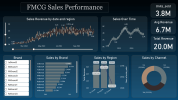

The dashboard page shown, as its layout file describes it:
{"tool":"powerbi","page":{"name":"Page 1","canvas":[1280,720],"ordinal":0},"visuals":[{"type":"lineChart","title":"Sales Over Time","fields":{"Category":["FMCG_2022_2024.date.Variation.Date Hierarchy.Year"],"Y":["Sum(FMCG_2022_2024.units_sold)"]},"box":[724.1,117.5,331,252.6],"z":0},{"type":"barChart","title":"Sales by Brand","fields":{"Category":["FMCG_2022_2024.brand"],"Y":["Sum(FMCG_2022_2024.units_sold)"]},"box":[249.9,394.4,316.1,305.3],"z":1000},{"type":"lineClusteredColumnComboChart","title":"Sales by Region","fields":{"Category":["FMCG_2022_2024.region"],"Y":["FMCG_2022_2024.Total Revenue"],"Y2":["Sum(FMCG_2022_2024.units_sold)"]},"box":[586.3,394.4,337.7,306.6],"z":2000},{"type":"donutChart","title":"Sales by Channel","fields":{"Category":["FMCG_2022_2024.channel"],"Y":["Sum(FMCG_2022_2024.units_sold)"]},"box":[941.5,394.4,324.2,305.3],"z":3000},{"type":"listSlicer","title":"Brand","fields":{"Values":["FMCG_2022_2024.brand"]},"box":[24.3,394.4,209.4,305.3],"z":4000},{"type":"card","title":"Units_sold","fields":{"Values":["Sum(FMCG_2022_2024.units_sold)"]},"box":[1079.3,25.7,179.7,101.3],"z":5000},{"type":"textbox","box":[149.9,16.2,630.8,77],"z":7000},{"type":"card","title":"Total Revenue","fields":{"Values":["FMCG_2022_2024.Total Revenue"]},"box":[1080.7,256.7,178.3,113.5],"z":8000},{"type":"card","title":"Avg Revenue","fields":{"Values":["FMCG_2022_2024.Average Revenue"]},"box":[1080.7,140.5,178.3,104],"z":9000},{"type":"lineChart","title":"Sales Revenue by date and region","fields":{"Category":["FMCG_2022_2024.date"],"Series":["FMCG_2022_2024.region"],"Y":["Sum(FMCG_2022_2024.Revenue)"]},"box":[24.3,117.5,678.1,252.6],"z":10000}]}

Visuals, with their boxes in screenshot pixels (x1, y1, x2, y2), scaled from the page's 1280x720 canvas onto the 178x100 screenshot:
"Sales Over Time" lineChart: x1=101 y1=16 x2=147 y2=51
"Sales by Brand" barChart: x1=35 y1=55 x2=79 y2=97
"Sales by Region" lineClusteredColumnComboChart: x1=82 y1=55 x2=128 y2=97
"Sales by Channel" donutChart: x1=131 y1=55 x2=176 y2=97
"Brand" listSlicer: x1=3 y1=55 x2=32 y2=97
"Units_sold" card: x1=150 y1=4 x2=175 y2=18
textbox: x1=21 y1=2 x2=109 y2=13
"Total Revenue" card: x1=150 y1=36 x2=175 y2=51
"Avg Revenue" card: x1=150 y1=20 x2=175 y2=34
"Sales Revenue by date and region" lineChart: x1=3 y1=16 x2=98 y2=51
